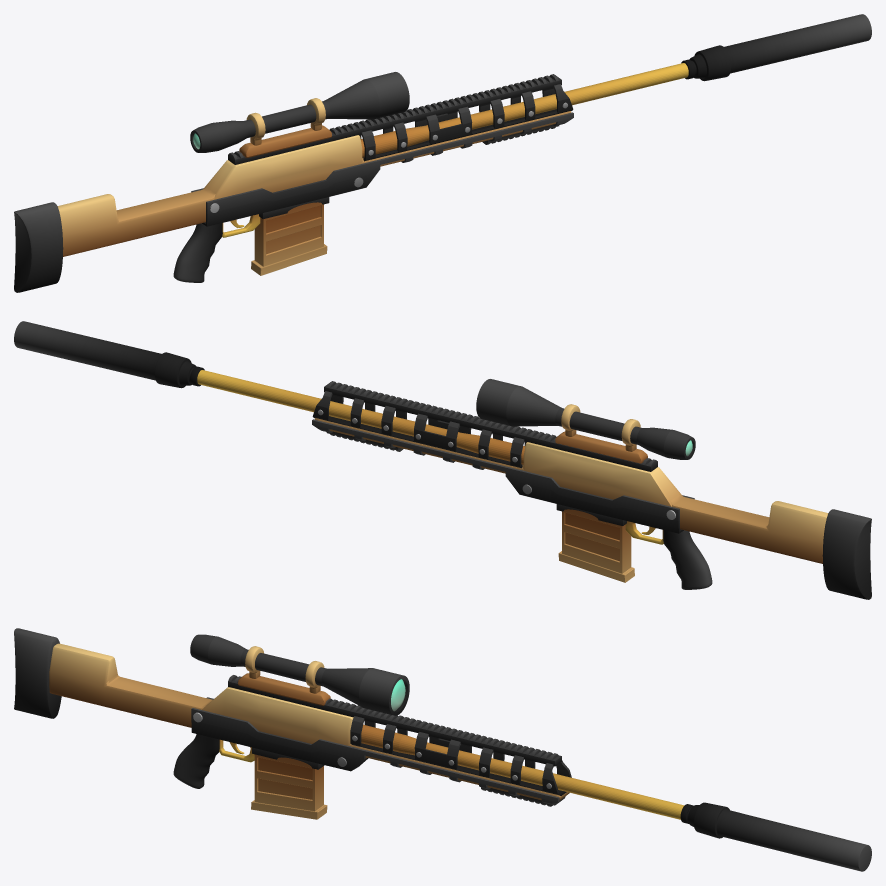
The model's file is weapon_sniper.glb.
3 views of the same model, one above another, from view 1: azimuth 30°, elevation 25°; view 2: azimuth 150°, elevation 25°; view 3: azimuth 330°, elevation 25° (orthographic).
Visible parts, largest first — view 1: body.001, scope.002, body_support.001, suppressor.001, barrel.001, mag.001, shoulderguard.001, Plane.002, tac_rail_top.002, scope_holder.001, handle.001; view 2: body.001, scope.002, body_support.001, suppressor.001, barrel.001, mag.001, shoulderguard.001, tac_rail_top.002, Plane.002, scope_holder.001, handle.001; view 3: body.001, scope.002, suppressor.001, body_support.001, barrel.001, mag.001, Plane.002, tac_rail_top.002, shoulderguard.001, scope_holder.001, handle.001.
Part boxes in pixels (x1=…): body.001: x1=57, y1=111, x2=571, y2=256; scope.002: x1=190, y1=72, x2=409, y2=152; body_support.001: x1=191, y1=112, x2=573, y2=226; suppressor.001: x1=681, y1=14, x2=871, y2=81; barrel.001: x1=360, y1=63, x2=688, y2=157; mag.001: x1=251, y1=202, x2=327, y2=275; shoulderguard.001: x1=14, y1=202, x2=63, y2=292; Plane.002: x1=359, y1=84, x2=573, y2=161; tac_rail_top.002: x1=228, y1=74, x2=561, y2=164; scope_holder.001: x1=239, y1=98, x2=331, y2=157; handle.001: x1=173, y1=223, x2=222, y2=282; body.001: x1=314, y1=418, x2=828, y2=563; scope.002: x1=476, y1=379, x2=695, y2=459; body_support.001: x1=312, y1=419, x2=694, y2=533; suppressor.001: x1=14, y1=321, x2=204, y2=388; barrel.001: x1=197, y1=370, x2=525, y2=464; mag.001: x1=558, y1=509, x2=634, y2=582; shoulderguard.001: x1=822, y1=509, x2=871, y2=599; tac_rail_top.002: x1=324, y1=381, x2=657, y2=471; Plane.002: x1=312, y1=391, x2=526, y2=468; scope_holder.001: x1=555, y1=404, x2=647, y2=463; handle.001: x1=663, y1=530, x2=712, y2=589; body.001: x1=49, y1=643, x2=569, y2=800; scope.002: x1=190, y1=634, x2=409, y2=715; suppressor.001: x1=680, y1=802, x2=871, y2=871; body_support.001: x1=191, y1=697, x2=565, y2=805; barrel.001: x1=361, y1=724, x2=684, y2=819; mag.001: x1=251, y1=754, x2=327, y2=819; Plane.002: x1=350, y1=716, x2=571, y2=795; tac_rail_top.002: x1=228, y1=675, x2=561, y2=766; shoulderguard.001: x1=14, y1=628, x2=61, y2=718; scope_holder.001: x1=238, y1=646, x2=330, y2=705; handle.001: x1=173, y1=734, x2=219, y2=788.
Size of the model in its own units: 1.79 by 0.3314 by 0.0756.
1 material, 1 textured.
